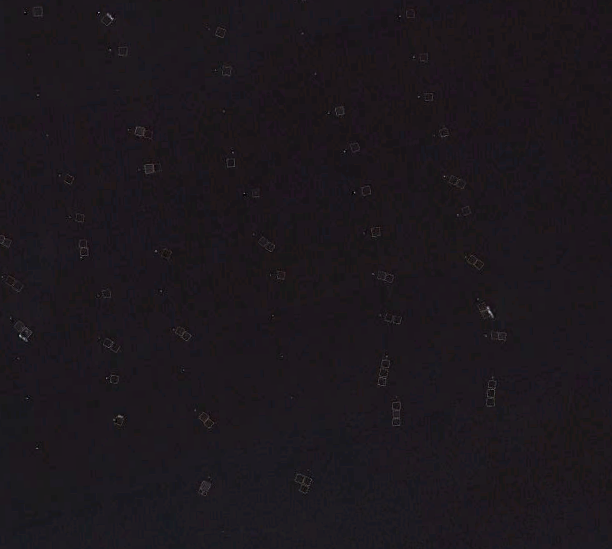square: (373, 369, 391, 391), (139, 127, 157, 146), (295, 480, 313, 498), (482, 384, 500, 401), (115, 40, 131, 59), (98, 11, 115, 28), (19, 328, 36, 345), (11, 318, 28, 335), (480, 305, 495, 324), (436, 124, 453, 140), (218, 62, 235, 78), (149, 159, 165, 176), (381, 307, 395, 326), (417, 49, 433, 65), (246, 184, 262, 200), (392, 314, 407, 331), (143, 160, 157, 178), (421, 90, 437, 105), (474, 297, 490, 312), (330, 103, 346, 118), (346, 139, 362, 154), (77, 246, 92, 262), (273, 267, 288, 283), (195, 480, 211, 495), (220, 156, 237, 170), (98, 287, 115, 301), (129, 124, 147, 137), (453, 178, 468, 193), (11, 280, 25, 296), (195, 409, 211, 423), (162, 244, 175, 261), (171, 323, 188, 336), (1, 234, 13, 252), (404, 6, 418, 21), (445, 171, 459, 186), (109, 343, 123, 358), (380, 354, 394, 369), (291, 471, 307, 484), (301, 475, 317, 488), (496, 328, 508, 345), (211, 25, 228, 37), (72, 212, 86, 226), (257, 232, 271, 246), (367, 222, 381, 236), (487, 327, 500, 342), (30, 5, 45, 18), (59, 170, 74, 183), (76, 236, 91, 249), (100, 337, 115, 350), (204, 418, 217, 433), (264, 240, 279, 253), (379, 368, 392, 383), (391, 408, 407, 420), (472, 257, 485, 271), (108, 373, 122, 386), (357, 181, 371, 194), (385, 272, 399, 285), (484, 397, 497, 410), (460, 204, 472, 218), (376, 267, 388, 281), (466, 253, 478, 266), (486, 378, 498, 391), (4, 273, 16, 286), (113, 413, 125, 426), (391, 417, 403, 429), (181, 332, 194, 343), (389, 402, 406, 410)
